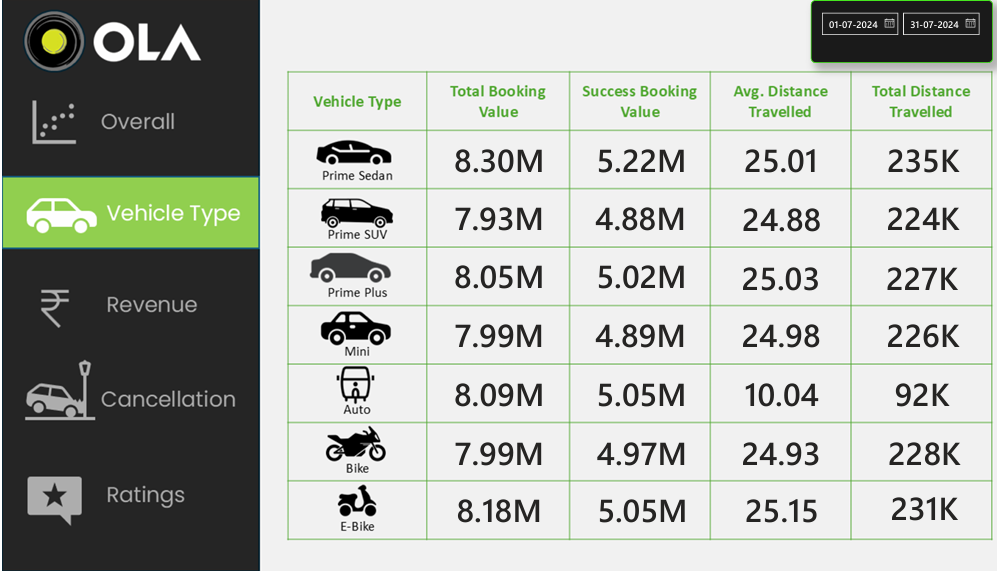

This screenshot's page, from the dashboard's own definition file:
{"tool":"powerbi","page":{"name":"vehicle Type","canvas":[1280,720],"ordinal":1},"visuals":[{"type":"actionButton","box":[0,112.2,323.3,91.7],"z":0},{"type":"actionButton","box":[0,339,323.3,91.7],"z":1000},{"type":"card","fields":{"Values":["Sum(OLA_Bookings.Booking_Value)"]},"box":[713.8,165,178.8,70],"z":2000},{"type":"card","fields":{"Values":["Sum(OLA_Bookings.Booking_Value)"]},"box":[535,237.5,178.8,70],"z":3000},{"type":"card","fields":{"Values":["Sum(OLA_Bookings.Booking_Value)"]},"box":[535,311.2,178.8,70],"z":4000},{"type":"card","fields":{"Values":["Sum(OLA_Bookings.Booking_Value)"]},"box":[535,385,178.8,70],"z":5000},{"type":"card","fields":{"Values":["Sum(OLA_Bookings.Booking_Value)"]},"box":[535,458.8,178.8,70],"z":6000},{"type":"card","fields":{"Values":["Sum(OLA_Bookings.Booking_Value)"]},"box":[535,532.5,178.8,70],"z":7000},{"type":"card","fields":{"Values":["Sum(OLA_Bookings.Booking_Value)"]},"box":[535,605,178.8,70],"z":8000},{"type":"card","fields":{"Values":["Sum(OLA_Bookings.Booking_Value)"]},"box":[535,165,178.8,70],"z":9000},{"type":"card","fields":{"Values":["Sum(OLA_Bookings.Booking_Value)"]},"box":[712.5,237.5,178.8,70],"z":10000},{"type":"card","fields":{"Values":["Sum(OLA_Bookings.Booking_Value)"]},"box":[713.8,311.2,178.8,70],"z":11000},{"type":"card","fields":{"Values":["Sum(OLA_Bookings.Booking_Value)"]},"box":[712.5,385,178.8,70],"z":12000},{"type":"card","fields":{"Values":["Sum(OLA_Bookings.Booking_Value)"]},"box":[713.8,458.8,178.8,70],"z":13000},{"type":"card","fields":{"Values":["Sum(OLA_Bookings.Booking_Value)"]},"box":[723.8,528.8,178.8,10],"z":14000},{"type":"card","fields":{"Values":["Sum(OLA_Bookings.Booking_Value)"]},"box":[713.8,532.5,178.8,70],"z":15000},{"type":"card","fields":{"Values":["Sum(OLA_Bookings.Booking_Value)"]},"box":[723.8,602.5,178.8,10],"z":16000},{"type":"card","fields":{"Values":["Sum(OLA_Bookings.Booking_Value)"]},"box":[715,605,178.8,70],"z":17000},{"type":"card","fields":{"Values":["Avg(OLA_Bookings.Ride_Distance)"]},"box":[888.8,165,178.8,70],"z":18000},{"type":"card","fields":{"Values":["Avg(OLA_Bookings.Ride_Distance)"]},"box":[890,238.8,178.8,70],"z":19000},{"type":"card","fields":{"Values":["Avg(OLA_Bookings.Ride_Distance)"]},"box":[888.8,312.5,178.8,70],"z":20000},{"type":"card","fields":{"Values":["Avg(OLA_Bookings.Ride_Distance)"]},"box":[888.8,385,178.8,70],"z":21000},{"type":"card","fields":{"Values":["Avg(OLA_Bookings.Ride_Distance)"]},"box":[890,458.8,178.8,70],"z":22000},{"type":"card","fields":{"Values":["Avg(OLA_Bookings.Ride_Distance)"]},"box":[888.8,532.5,178.8,70],"z":23000},{"type":"card","fields":{"Values":["Avg(OLA_Bookings.Ride_Distance)"]},"box":[890,605,178.8,70],"z":24000},{"type":"card","fields":{"Values":["Sum(OLA_Bookings.Ride_Distance)"]},"box":[1067.5,165,178.8,70],"z":25000},{"type":"card","fields":{"Values":["Sum(OLA_Bookings.Ride_Distance)"]},"box":[1067.5,237.5,178.8,70],"z":26000},{"type":"card","fields":{"Values":["Sum(OLA_Bookings.Ride_Distance)"]},"box":[1066.2,312.5,178.8,70],"z":27000},{"type":"card","fields":{"Values":["Sum(OLA_Bookings.Ride_Distance)"]},"box":[1067.5,385,178.8,70],"z":28000},{"type":"card","fields":{"Values":["Sum(OLA_Bookings.Ride_Distance)"]},"box":[1066.2,458.8,178.8,70],"z":29000},{"type":"card","fields":{"Values":["Sum(OLA_Bookings.Ride_Distance)"]},"box":[1068.8,532.5,178.8,70],"z":30000},{"type":"card","fields":{"Values":["Sum(OLA_Bookings.Ride_Distance)"]},"box":[1068.8,602.5,178.8,70],"z":31000},{"type":"slicer","title":"Date","fields":{"Values":["OLA_Bookings.Date"]},"box":[1016.2,0,228.8,78.8],"z":32000},{"type":"actionButton","box":[0,447.5,323.8,92.5],"z":32001},{"type":"actionButton","box":[0,567.5,323.8,92.5],"z":32002}]}

Visuals, with their boxes on the page's 1280x720 design canvas (x1, y1, x2, y2). These are canvas units, not pixel positions in the 997x577 screenshot, which may show the page scaled, cropped or inside an application window:
actionButton: 0/112/323/204
actionButton: 0/339/323/431
card - Sum(OLA_Bookings.Booking_Value): 714/165/893/235
card - Sum(OLA_Bookings.Booking_Value): 535/238/714/308
card - Sum(OLA_Bookings.Booking_Value): 535/311/714/381
card - Sum(OLA_Bookings.Booking_Value): 535/385/714/455
card - Sum(OLA_Bookings.Booking_Value): 535/459/714/529
card - Sum(OLA_Bookings.Booking_Value): 535/532/714/602
card - Sum(OLA_Bookings.Booking_Value): 535/605/714/675
card - Sum(OLA_Bookings.Booking_Value): 535/165/714/235
card - Sum(OLA_Bookings.Booking_Value): 712/238/891/308
card - Sum(OLA_Bookings.Booking_Value): 714/311/893/381
card - Sum(OLA_Bookings.Booking_Value): 712/385/891/455
card - Sum(OLA_Bookings.Booking_Value): 714/459/893/529
card - Sum(OLA_Bookings.Booking_Value): 724/529/903/539
card - Sum(OLA_Bookings.Booking_Value): 714/532/893/602
card - Sum(OLA_Bookings.Booking_Value): 724/602/903/612
card - Sum(OLA_Bookings.Booking_Value): 715/605/894/675
card - Avg(OLA_Bookings.Ride_Distance): 889/165/1068/235
card - Avg(OLA_Bookings.Ride_Distance): 890/239/1069/309
card - Avg(OLA_Bookings.Ride_Distance): 889/312/1068/382
card - Avg(OLA_Bookings.Ride_Distance): 889/385/1068/455
card - Avg(OLA_Bookings.Ride_Distance): 890/459/1069/529
card - Avg(OLA_Bookings.Ride_Distance): 889/532/1068/602
card - Avg(OLA_Bookings.Ride_Distance): 890/605/1069/675
card - Sum(OLA_Bookings.Ride_Distance): 1068/165/1246/235
card - Sum(OLA_Bookings.Ride_Distance): 1068/238/1246/308
card - Sum(OLA_Bookings.Ride_Distance): 1066/312/1245/382
card - Sum(OLA_Bookings.Ride_Distance): 1068/385/1246/455
card - Sum(OLA_Bookings.Ride_Distance): 1066/459/1245/529
card - Sum(OLA_Bookings.Ride_Distance): 1069/532/1248/602
card - Sum(OLA_Bookings.Ride_Distance): 1069/602/1248/672
"Date" slicer: 1016/0/1245/79
actionButton: 0/448/324/540
actionButton: 0/568/324/660
